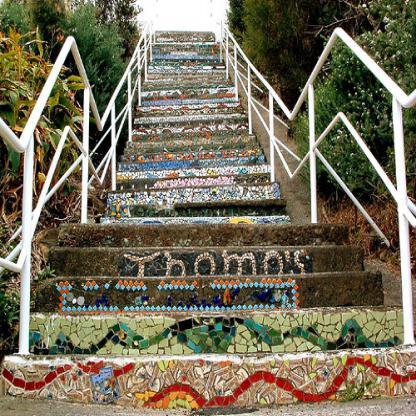stairs: (92, 226, 313, 415)
